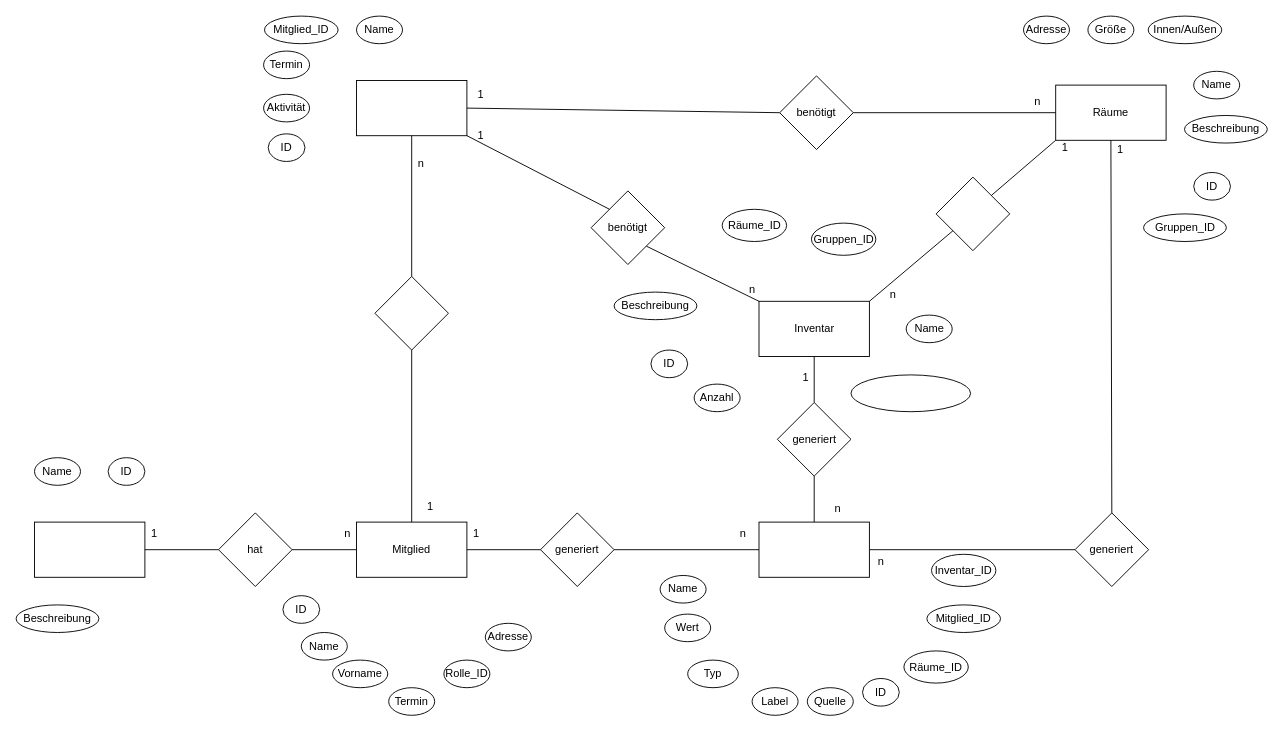
This 1283x731 diagram has some shape labels left out. The centre of each missing label's shape, as x and y in pixels:
"Anschaffungszeitpunkt" goes at point 910,393.
"Finanzen" goes at point 813,549.
"Gruppen/ Mannschaften" goes at point 411,108.
"ist Teil von" goes at point 411,313.
"Rolle" goes at point 89,549.
"wird gelagert in" goes at point 972,213.
